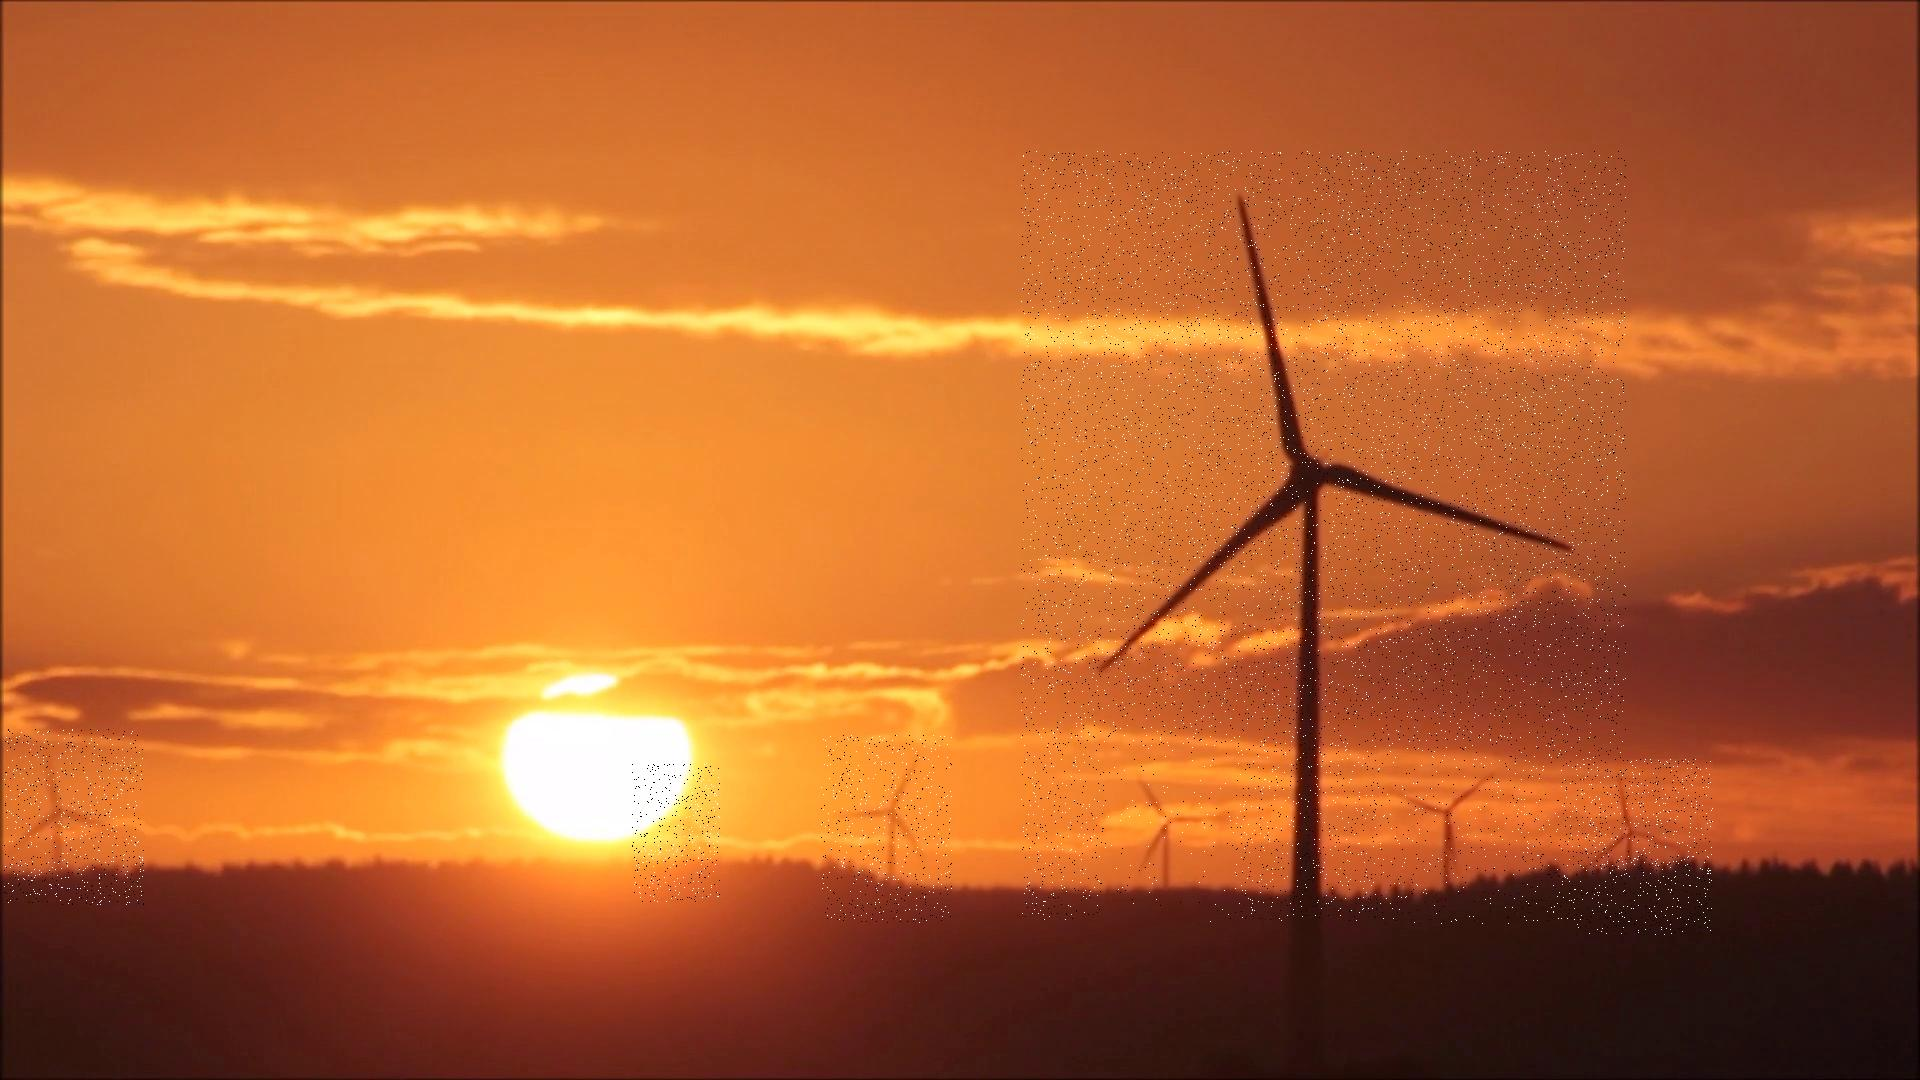turbine: (1021, 152, 1626, 920), (822, 736, 952, 924), (4, 731, 144, 906), (1577, 760, 1714, 936), (1379, 750, 1514, 924), (1106, 746, 1236, 924), (633, 764, 721, 902)
